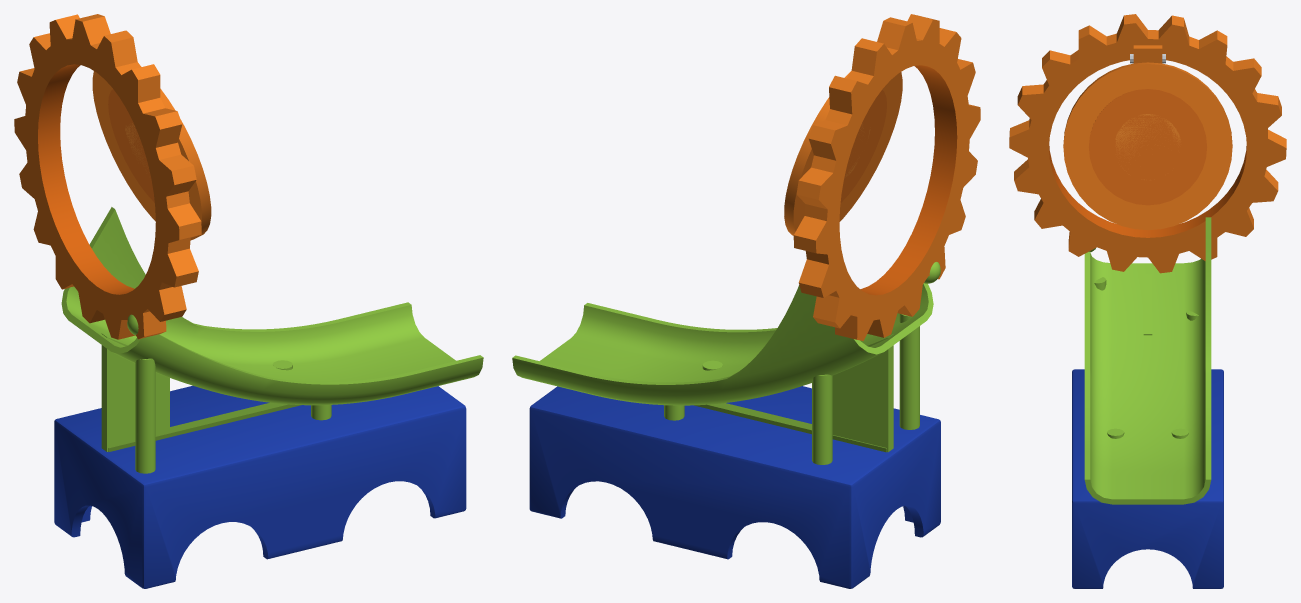
The picture shows the model from 3 angles, left to right: view 1: azimuth 30°, elevation 25°; view 2: azimuth 150°, elevation 25°; view 3: azimuth 270°, elevation 25°; orthographic projection. The views are drawn at different scales.
Parts seen in each view (by area): view 1: M-11, disc; view 2: M-11, disc; view 3: M-11, disc.
Part boxes in pixels (x1,y1,x2,y2): M-11: (14,14,483,588); disc: (92,71,211,240); M-11: (512,14,980,588); disc: (784,71,902,235); M-11: (1009,14,1286,588); disc: (1063,62,1232,230).
Bounding box in the file's own units: 0.0959 × 0.1358 × 0.077.
